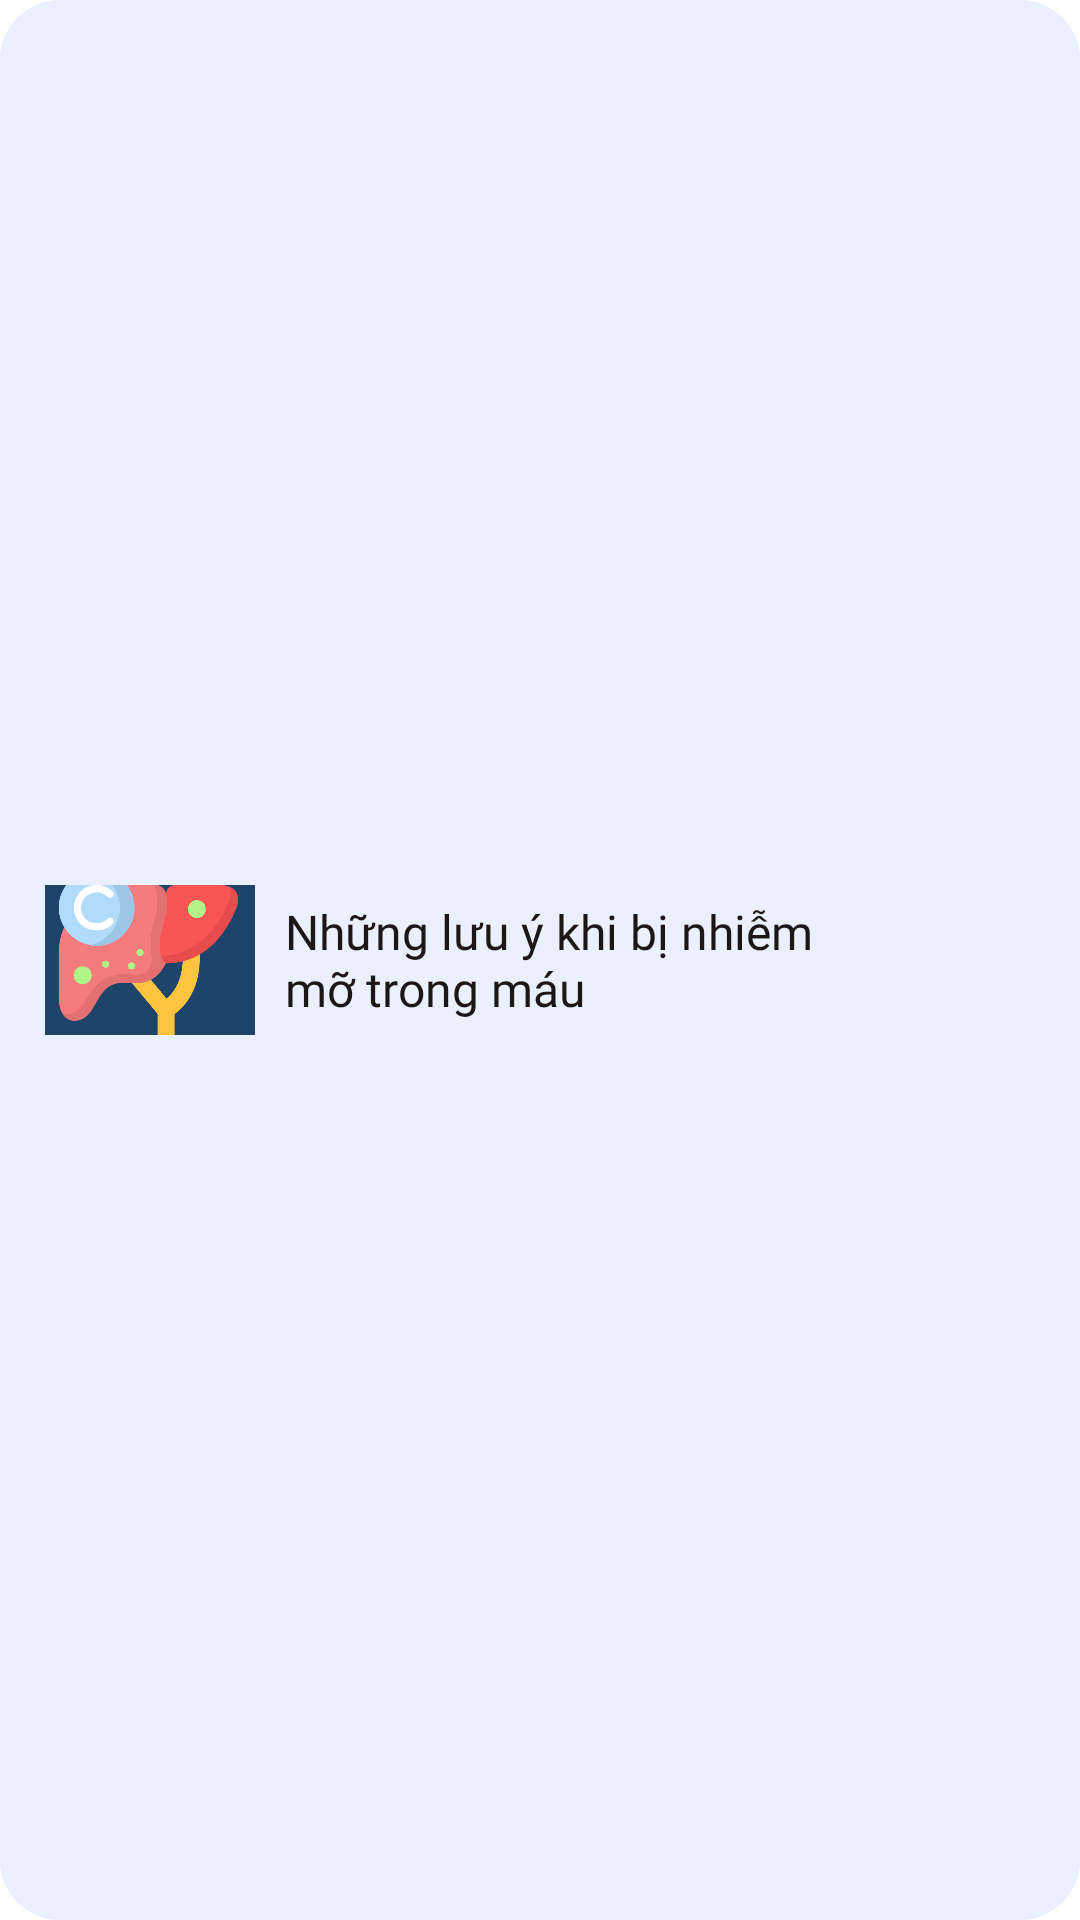

Icon click points for this 1080×1920 phone screenshot, format point (x, y):
gan nhiem mo: point (150, 960)
